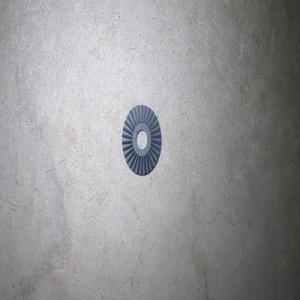Washer: (122, 104, 161, 175)
